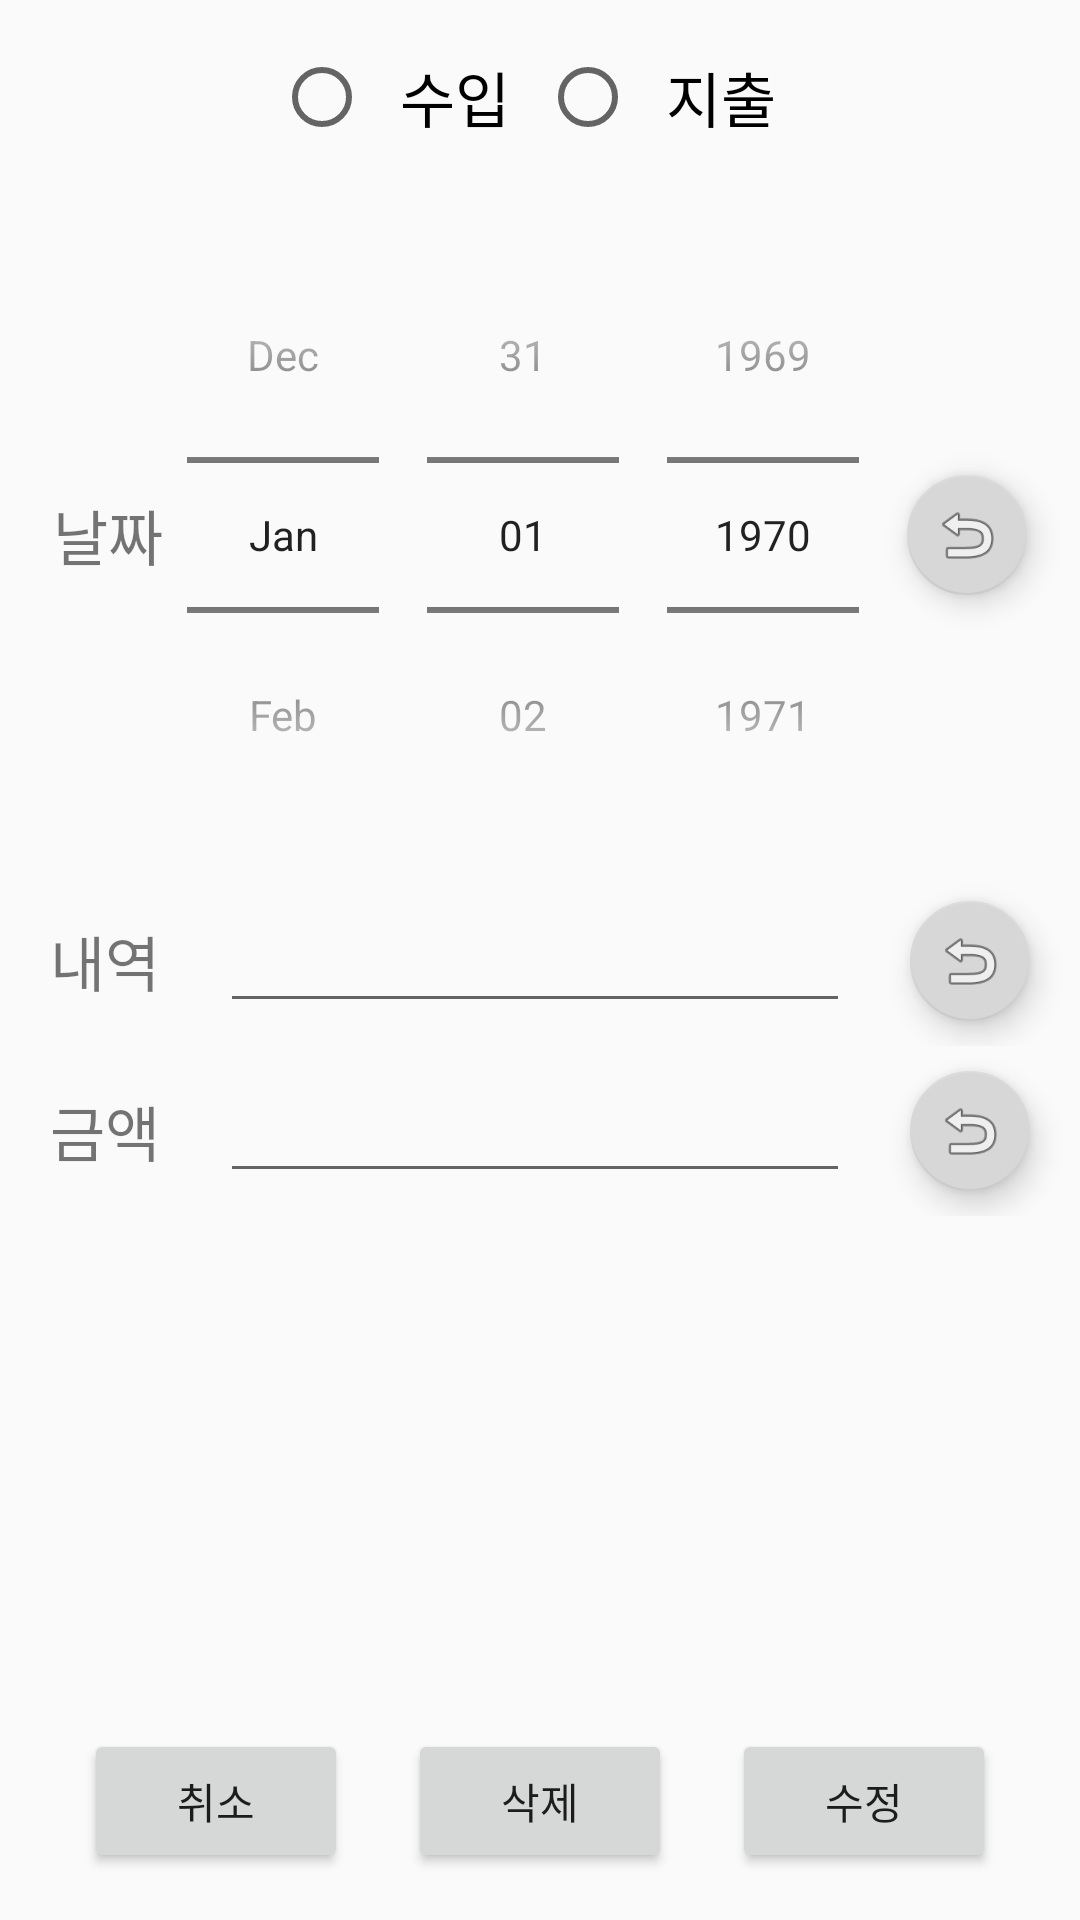

Locate icon controls on the screen. Image size 1080px x 1920px, boxes as (x1, y1, x2, y2).
revert: (907, 476, 1027, 595), (910, 903, 1030, 1021), (910, 1073, 1030, 1191)
